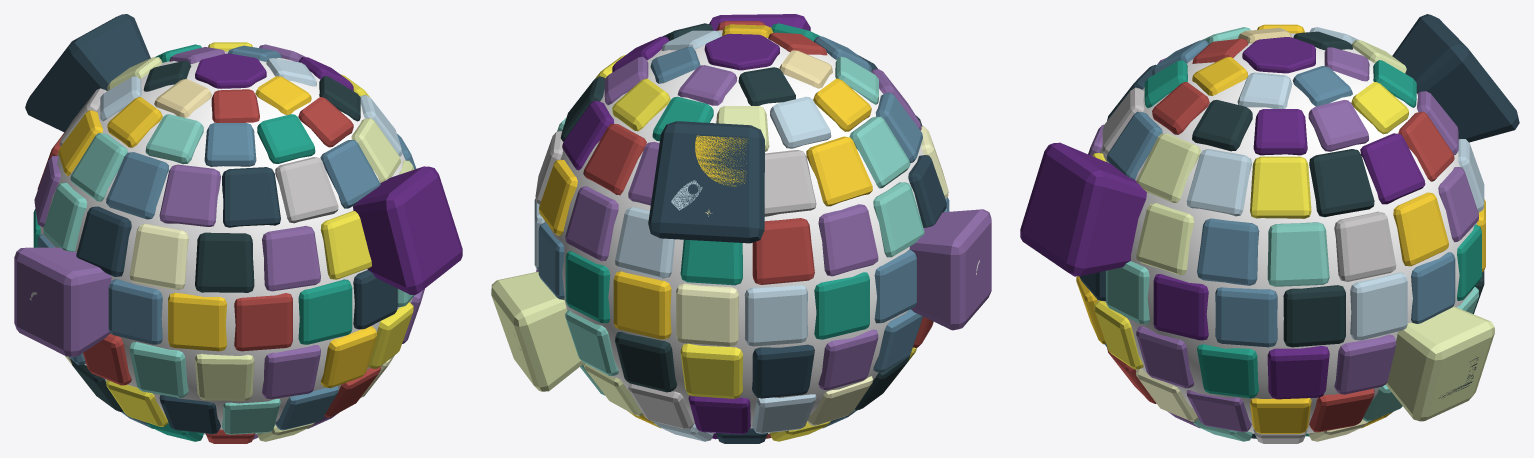
Rendered from apps-planet.glb.
3 renders of one model, left to right at view 1: azimuth 30°, elevation 25°; view 2: azimuth 150°, elevation 25°; view 3: azimuth 270°, elevation 25°, orthographic. The views are drawn at different scales.
Visible parts, largest first — view 1: Cube2, Cube3, sphere, Cube4, Cube1, lightup, Cube1.001, Cube5, Cube3.001, pentagon; view 2: Cube2, Cube3, Cube1, sphere, Cube4, Cube3.001, Cube5, Cube1.001, Cube2.001, pentagon, Curve.014, lightup; view 3: Cube2, Cube3, Cube1, sphere, Cube4, lightup, Cube2.001, Cube3.001, Cube5, pentagon.
Part boxes in pixels (x1=…): Cube2: x1=34, y1=131, x2=424, y2=400; Cube3: x1=58, y1=74, x2=402, y2=434; sphere: x1=40, y1=51, x2=412, y2=434; Cube4: x1=100, y1=42, x2=360, y2=443; Cube1: x1=33, y1=209, x2=414, y2=351; lightup: x1=353, y1=166, x2=462, y2=294; Cube1.001: x1=14, y1=247, x2=111, y2=356; Cube5: x1=143, y1=45, x2=316, y2=439; Cube3.001: x1=25, y1=14, x2=150, y2=132; pentagon: x1=195, y1=53, x2=266, y2=88; Cube2: x1=535, y1=115, x2=948, y2=398; Cube3: x1=560, y1=55, x2=922, y2=434; Cube1: x1=534, y1=197, x2=949, y2=346; sphere: x1=544, y1=30, x2=923, y2=433; Cube4: x1=604, y1=21, x2=878, y2=443; Cube3.001: x1=648, y1=121, x2=764, y2=243; Cube5: x1=650, y1=24, x2=832, y2=439; Cube1.001: x1=909, y1=209, x2=991, y2=330; Cube2.001: x1=491, y1=271, x2=583, y2=391; pentagon: x1=704, y1=33, x2=779, y2=70; Curve.014: x1=695, y1=135, x2=746, y2=186; lightup: x1=709, y1=14, x2=810, y2=31; Cube2: x1=1076, y1=124, x2=1484, y2=399; Cube3: x1=1102, y1=58, x2=1458, y2=433; Cube1: x1=1079, y1=199, x2=1485, y2=347; sphere: x1=1097, y1=33, x2=1476, y2=433; Cube4: x1=1144, y1=24, x2=1416, y2=443; lightup: x1=1020, y1=142, x2=1146, y2=276; Cube2.001: x1=1386, y1=306, x2=1494, y2=421; Cube3.001: x1=1392, y1=14, x2=1519, y2=142; Cube5: x1=1192, y1=28, x2=1369, y2=438; pentagon: x1=1242, y1=37, x2=1315, y2=73.
Size of the model in its own units: 1.88 by 1.64 by 2.03.
